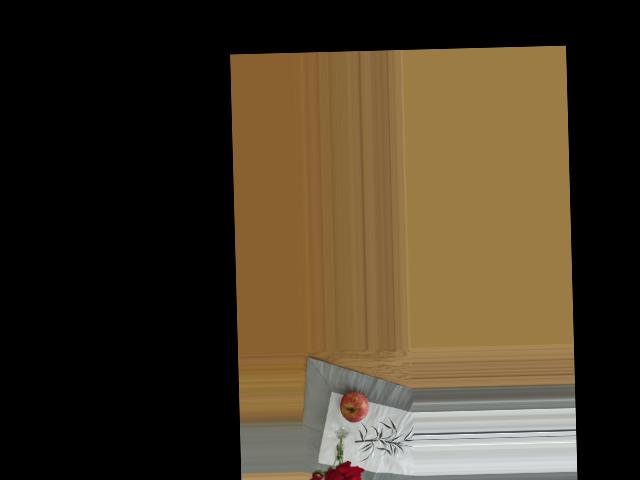apple: (336, 387, 369, 424)
